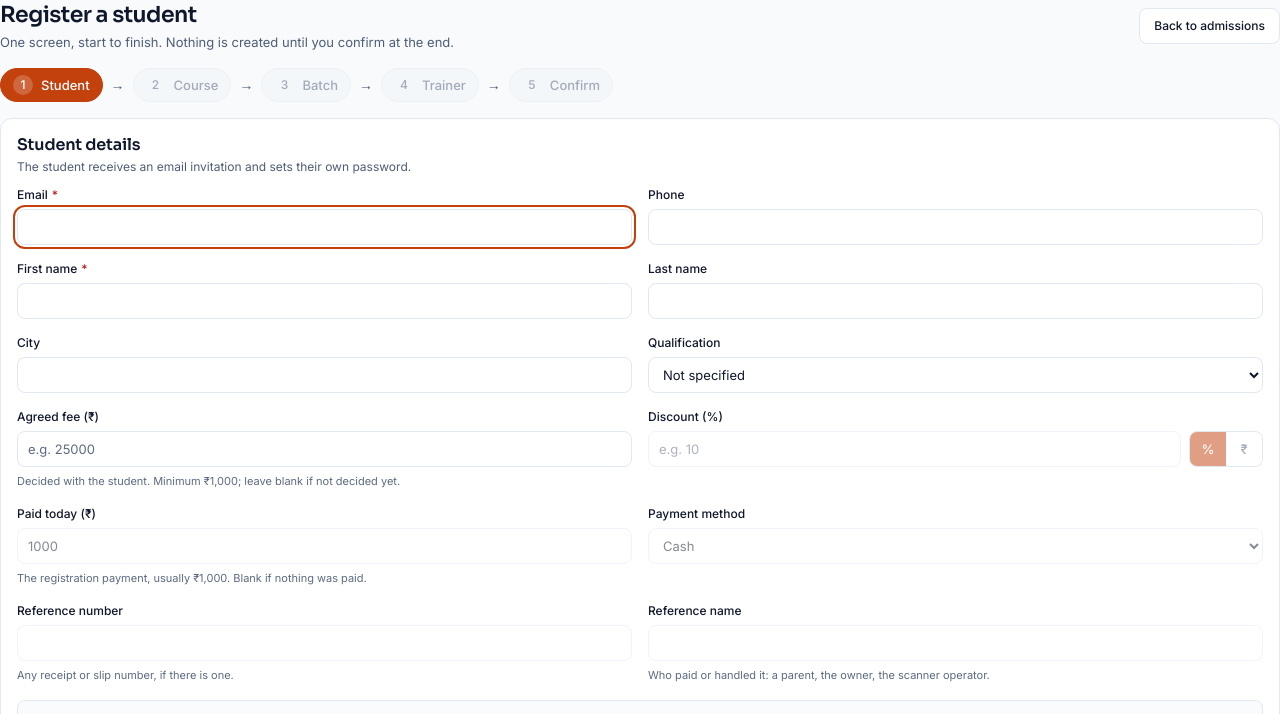
Test case: RegistrationWizard — moving through the steps › advances to the batch step the moment a course is chosen
In the field labelled "Email": (324, 227) 17,209 -> 632,245, type "jane@example.com"
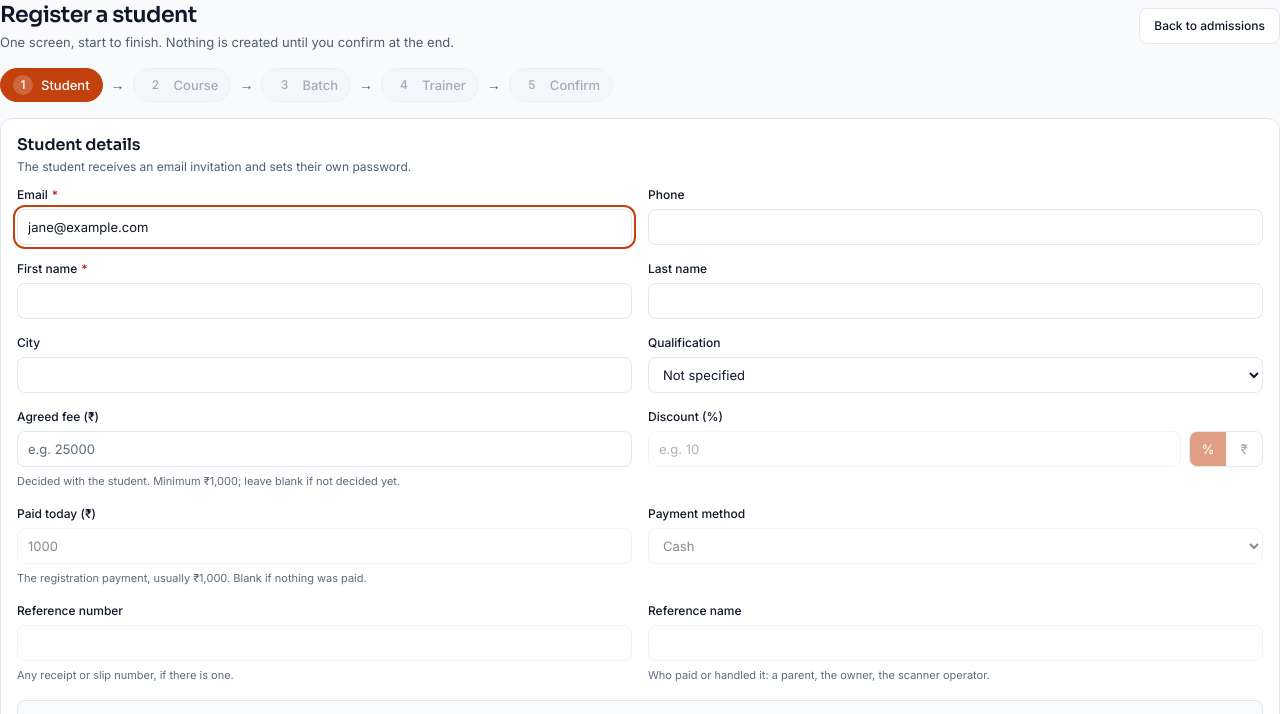
In the field labelled "First name": (324, 301) 17,283 -> 632,319, type "Jane"
(page scrolled)
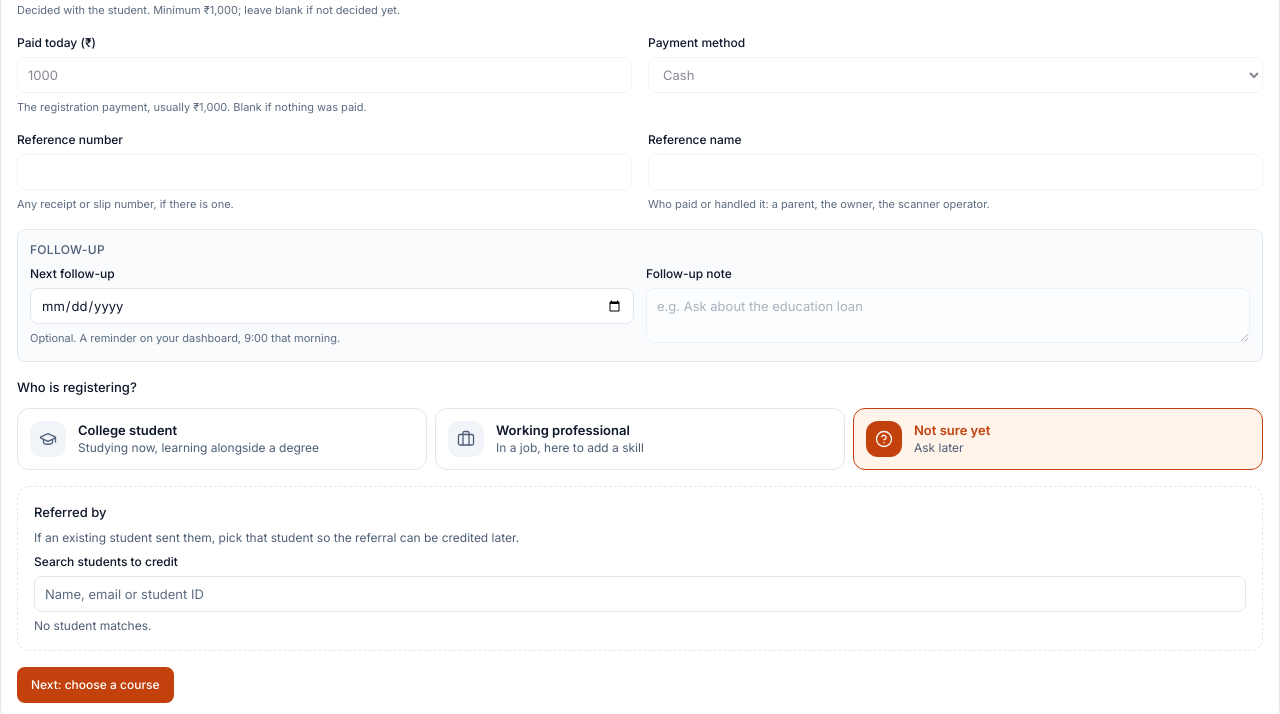
Click the button "Next: choose a course": click(95, 685) 17,667 -> 174,703
(page scrolled)
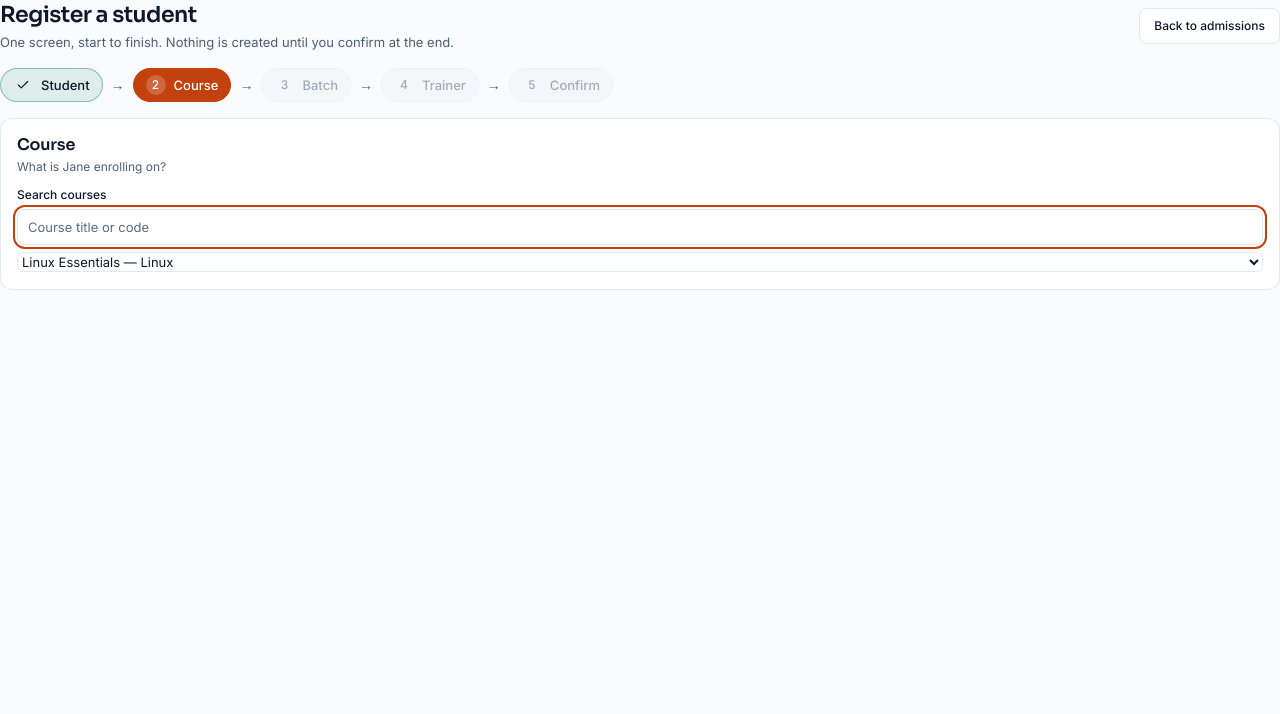
Select "Linux Essentials — Linux" in the dropdown named "Search courses results": (640, 262) 17,252 -> 1263,272
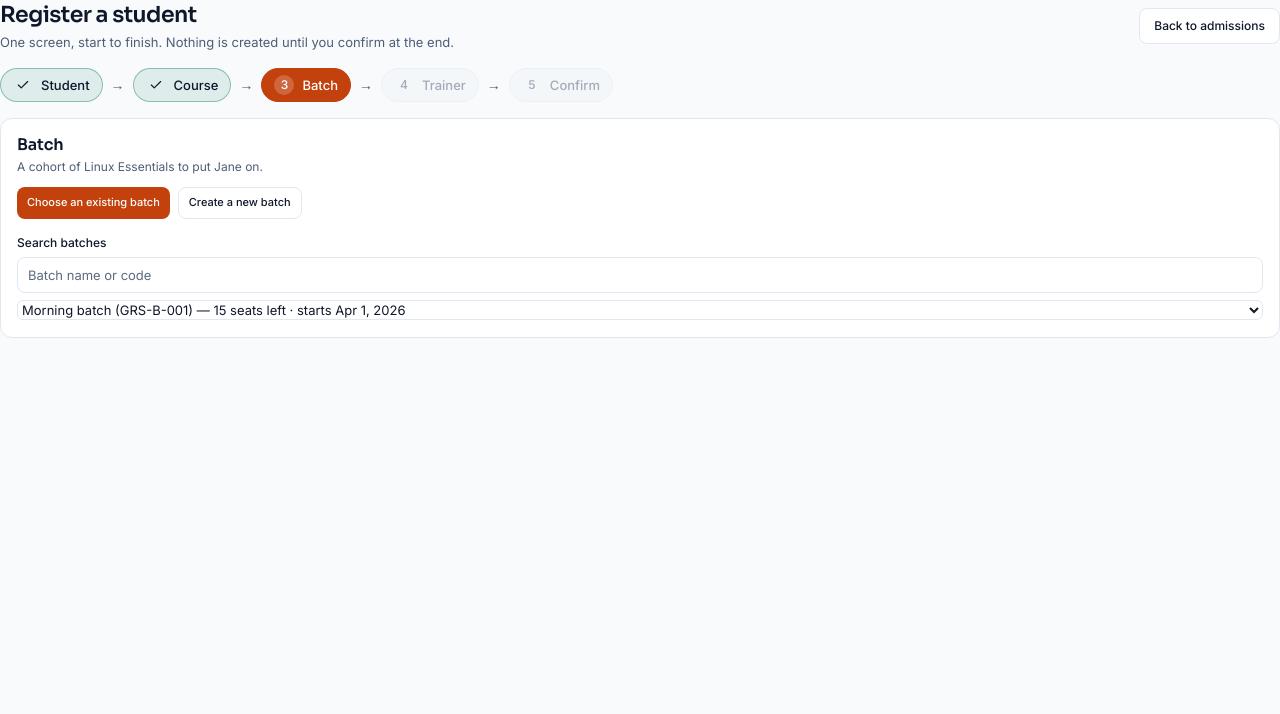
Expected: the heading "Batch" is shown, 17,134 -> 64,155
